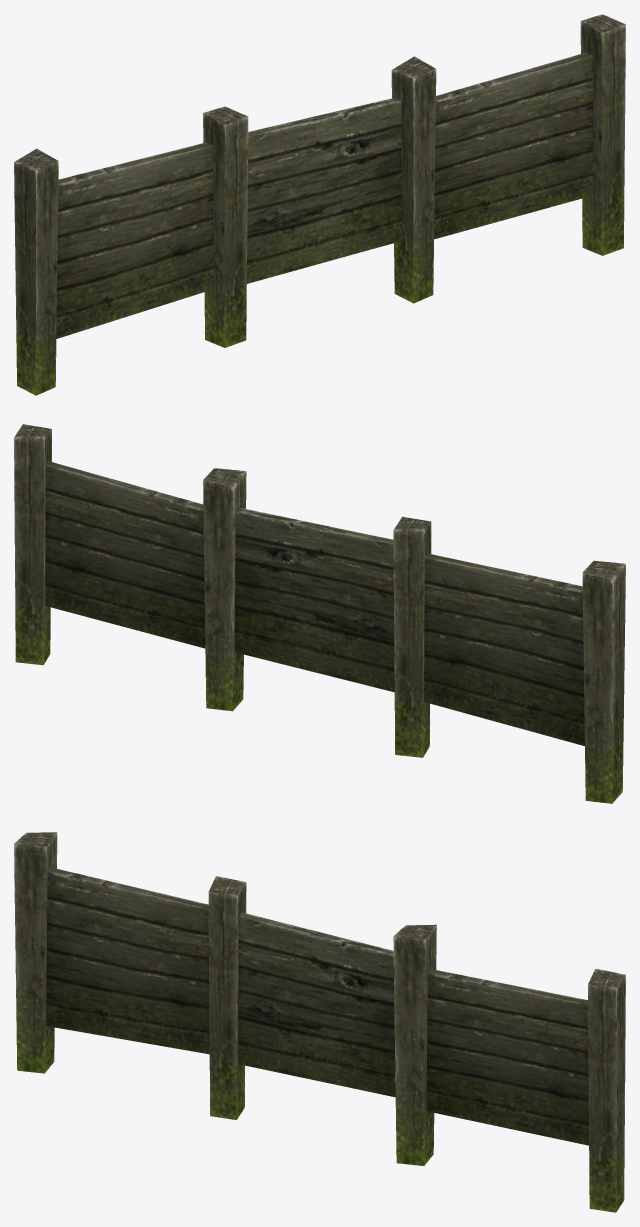
Rendered from OZ_26_nk_fence01B.glb.
3 views of the same model, one above another, from view 1: azimuth 30°, elevation 25°; view 2: azimuth 150°, elevation 25°; view 3: azimuth 330°, elevation 25° (orthographic).
Visible parts, largest first — view 1: OM_26_nk_fence01B; view 2: OM_26_nk_fence01B; view 3: OM_26_nk_fence01B.
Part boxes in pixels (box(x1,y1,x2,y2)): OM_26_nk_fence01B: box(14, 14, 625, 395); OM_26_nk_fence01B: box(14, 424, 625, 803); OM_26_nk_fence01B: box(14, 832, 625, 1212).
Bounding box in the file's own units: 7.21 × 2.62 × 0.4409.
Materials: 1 (1 with a texture image).
